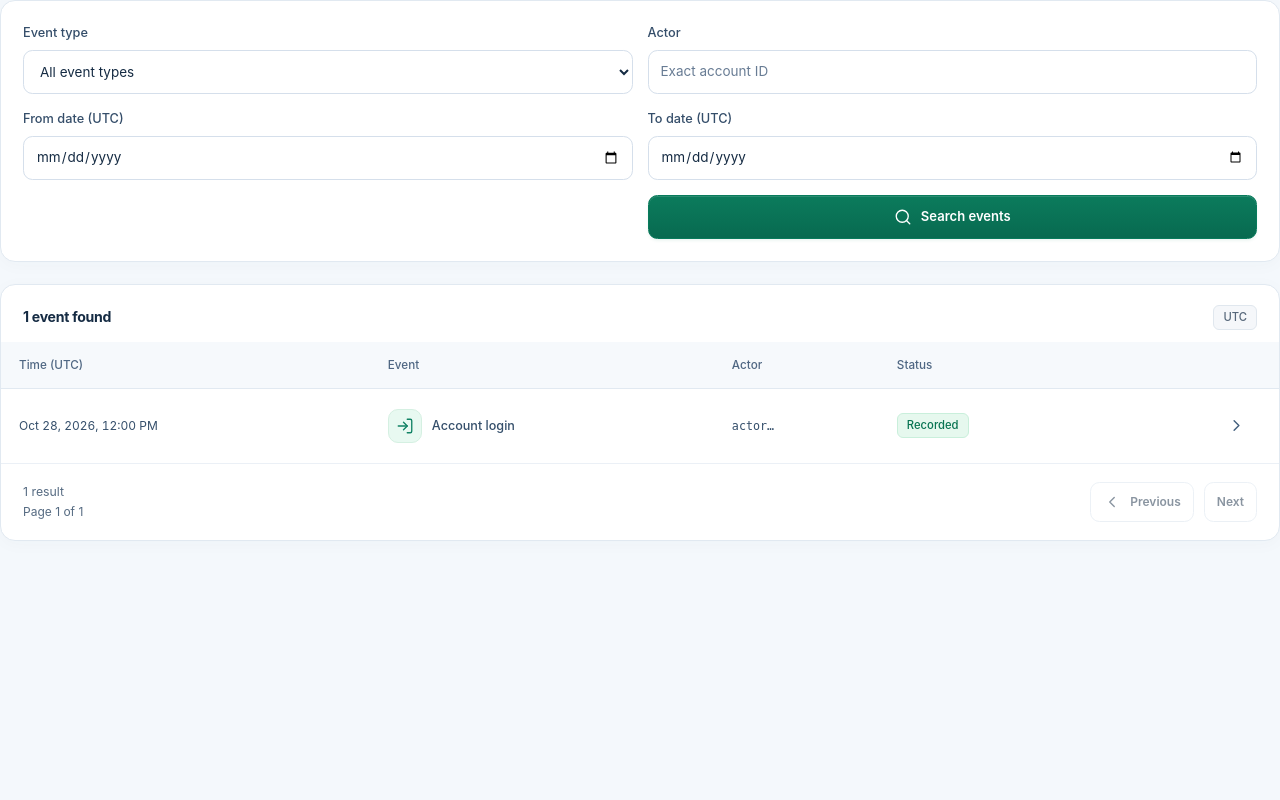
Test: audit details and result consistency › does not invent IP addresses or geographic metadata
Click the button named "View Account login event".
click(1236, 426)  # box [1215, 405, 1257, 447]
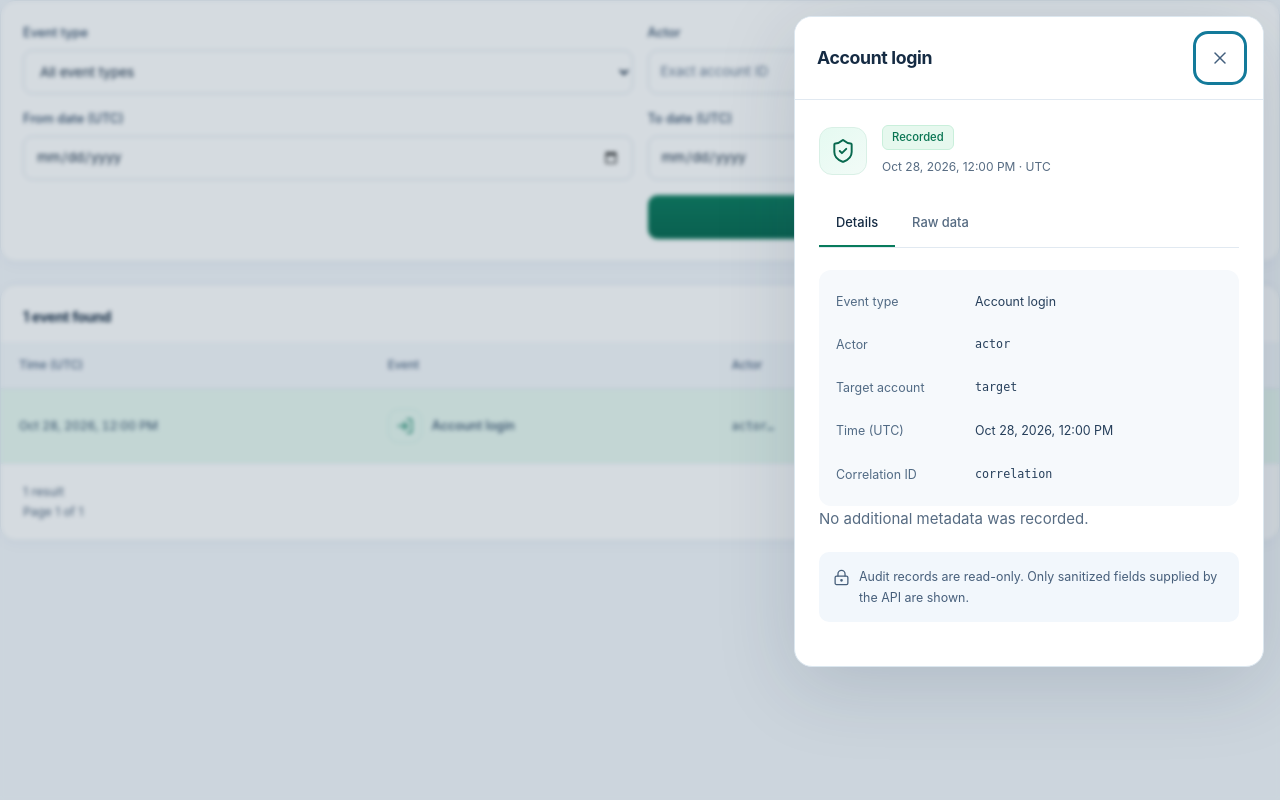
Now the dialog shows "No additional metadata", box [819, 509, 1088, 528]
